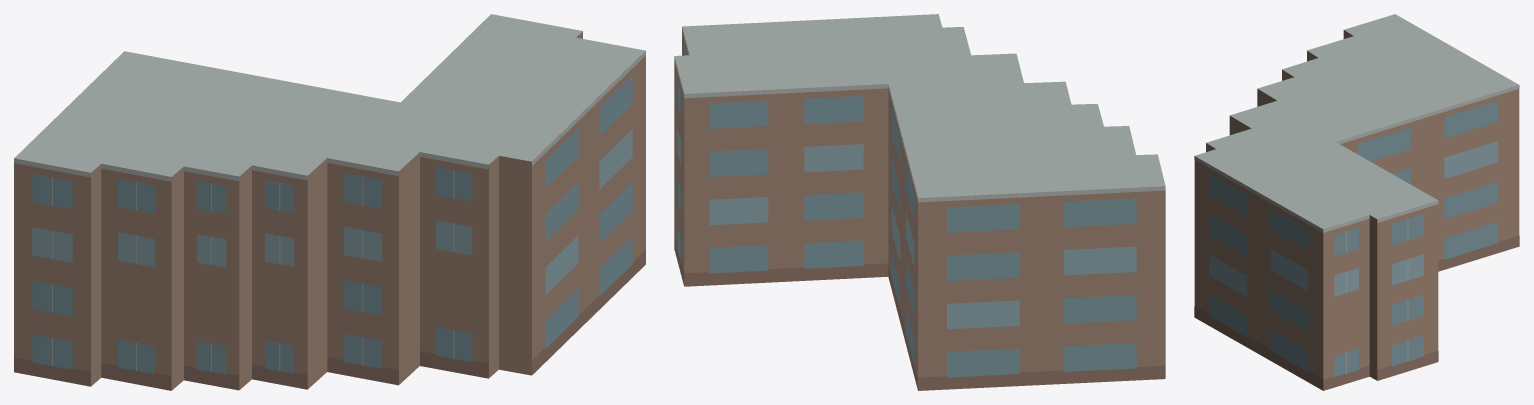
The model's file is survey-upis-32526470.glb.
The picture shows the model from 3 angles, left to right: view 1: azimuth 30°, elevation 25°; view 2: azimuth 150°, elevation 25°; view 3: azimuth 270°, elevation 25°; orthographic projection. The views are drawn at different scales.
Parts seen in each view (by area): view 1: survey-upis-32526470.tmp; view 2: survey-upis-32526470.tmp; view 3: survey-upis-32526470.tmp.
Part boxes in pixels (x1,y1,x2,y2): survey-upis-32526470.tmp: (14,14,645,390); survey-upis-32526470.tmp: (674,14,1165,390); survey-upis-32526470.tmp: (1194,14,1519,390).
Bounding box in the file's own units: 31.16 × 10.9 × 19.88.
